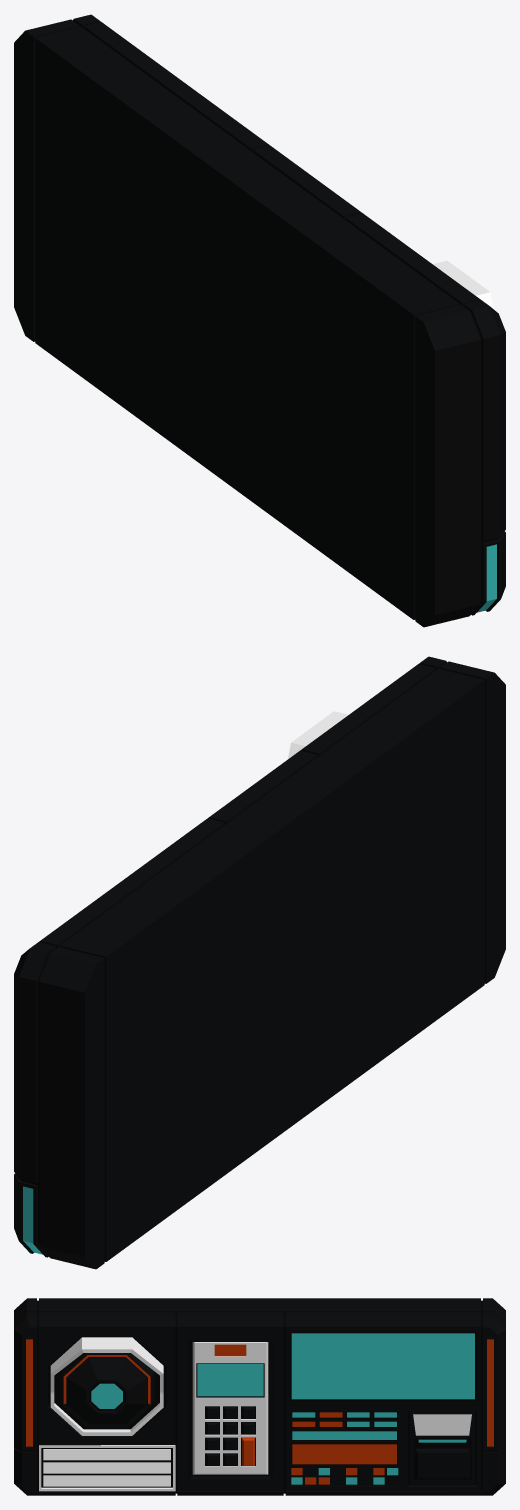
Rendered from SM_Wall_Security_Panel.obj.
3 renders of one model, top to bottom at view 1: azimuth 30°, elevation 25°; view 2: azimuth 150°, elevation 25°; view 3: azimuth 270°, elevation 25°, orthographic. The views are drawn at different scales.
Parts seen in each view (by area): view 1: SM_Wall_Security_Panel; view 2: SM_Wall_Security_Panel; view 3: SM_Wall_Security_Panel.
Part boxes in pixels (x1=…): SM_Wall_Security_Panel: x1=14, y1=14, x2=505, y2=627; SM_Wall_Security_Panel: x1=14, y1=656, x2=505, y2=1269; SM_Wall_Security_Panel: x1=14, y1=1298, x2=505, y2=1495.
Bounding box in the file's own units: 0.1173 × 0.3 × 0.75.
